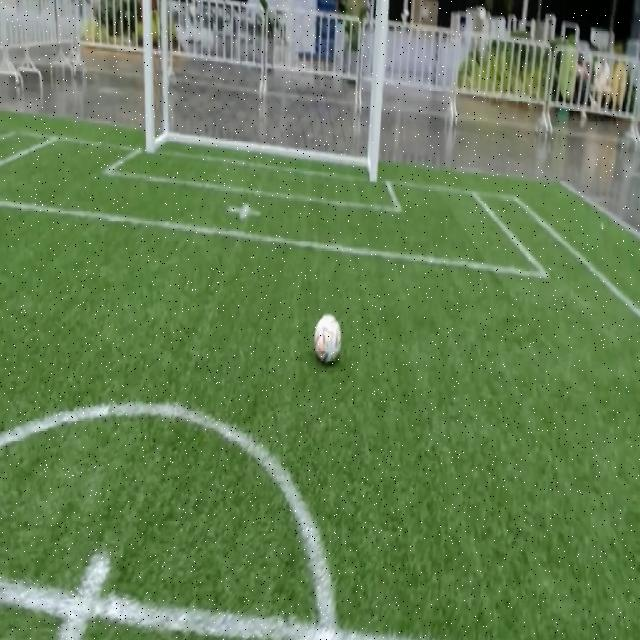ball: (315, 314, 340, 363)
goalpost: (366, 147, 381, 186), (144, 118, 157, 156)
